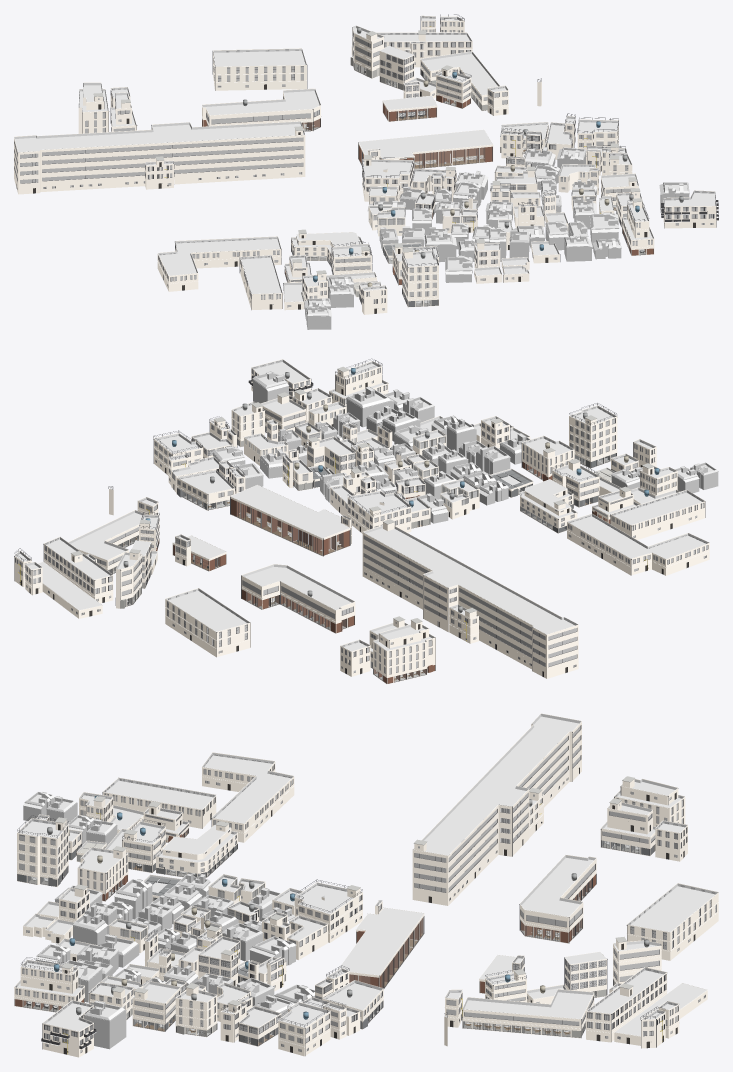
The picture shows the model from 3 angles, top to bottom: view 1: azimuth 30°, elevation 25°; view 2: azimuth 150°, elevation 25°; view 3: azimuth 270°, elevation 25°; orthographic projection. The views are drawn at different scales.
Visible parts, largest first — view 1: 서울특별시 성동구 성수동1가 656-32, 서울특별시 성동구 성수동1가 656-1961.001, 서울특별시 성동구 성수동1가 656-243, 서울특별시 성동구 성수동1가 72-130.001, 서울특별시 성동구 성수동1가 656-365, 서울특별시 성동구 성수동1가 656-243.001, 서울특별시 성동구 성수동1가 98-5, 서울특별시 성동구 성수동1가 72-114, 서울특별시 성동구 성수동1가 71-2, 서울특별시 성동구 성수동1가 72-158, 서울특별시 성동구 성수동1가 72-57, 서울특별시 성동구 성수동1가 656-1225 (+35 smaller); view 2: 서울특별시 성동구 성수동1가 656-32, 서울특별시 성동구 성수동1가 656-243, 서울특별시 성동구 성수동1가 72-130.001, 서울특별시 성동구 성수동1가 656-365, 서울특별시 성동구 성수동1가 656-1961.001, 서울특별시 성동구 성수동1가 656-251, 서울특별시 성동구 성수동1가 656-243.001, 서울특별시 성동구 성수동1가 98-5, 서울특별시 성동구 성수동1가 72-158, 서울특별시 성동구 성수동1가 72-114, 서울특별시 성동구 성수동1가 72-57, 서울특별시 성동구 성수동1가 656-1225 (+42 smaller); view 3: 서울특별시 성동구 성수동1가 656-32, 서울특별시 성동구 성수동1가 656-243, 서울특별시 성동구 성수동1가 656-365, 서울특별시 성동구 성수동1가 72-114, 서울특별시 성동구 성수동1가 72-130.001, 서울특별시 성동구 성수동1가 656-1961.001, 서울특별시 성동구 성수동1가 98-5, 서울특별시 성동구 성수동1가 72-158, 서울특별시 성동구 성수동1가 656-243.001, 서울특별시 성동구 성수동1가 656-1225, 서울특별시 성동구 성수동1가 77, 서울특별시 성동구 성수동1가 72-57 (+47 smaller).
Part boxes in pixels (x1,y1,x2,y2): 서울특별시 성동구 성수동1가 656-32: (14, 121, 305, 194); 서울특별시 성동구 성수동1가 656-1961.001: (212, 48, 307, 90); 서울특별시 성동구 성수동1가 656-243: (157, 236, 281, 291); 서울특별시 성동구 성수동1가 72-130.001: (358, 129, 493, 170); 서울특별시 성동구 성수동1가 656-365: (201, 88, 321, 131); 서울특별시 성동구 성수동1가 656-243.001: (239, 255, 282, 310); 서울특별시 성동구 성수동1가 98-5: (402, 248, 438, 307); 서울특별시 성동구 성수동1가 72-114: (420, 51, 499, 111); 서울특별시 성동구 성수동1가 71-2: (661, 190, 718, 228); 서울특별시 성동구 성수동1가 72-158: (376, 32, 472, 57); 서울특별시 성동구 성수동1가 72-57: (362, 157, 413, 201); 서울특별시 성동구 성수동1가 656-1225: (291, 232, 363, 267); 서울특별시 성동구 성수동1가 656-32: (362, 525, 578, 678); 서울특별시 성동구 성수동1가 656-243: (566, 513, 709, 575); 서울특별시 성동구 성수동1가 72-130.001: (230, 485, 350, 556); 서울특별시 성동구 성수동1가 656-365: (241, 564, 355, 633); 서울특별시 성동구 성수동1가 656-1961.001: (165, 588, 250, 657); 서울특별시 성동구 성수동1가 656-251: (373, 624, 435, 684); 서울특별시 성동구 성수동1가 656-243.001: (610, 489, 705, 539); 서울특별시 성동구 성수동1가 98-5: (568, 403, 617, 468); 서울특별시 성동구 성수동1가 72-158: (43, 536, 113, 603); 서울특별시 성동구 성수동1가 72-114: (68, 510, 147, 574); 서울특별시 성동구 성수동1가 72-57: (347, 488, 411, 533); 서울특별시 성동구 성수동1가 656-1225: (520, 479, 577, 533); 서울특별시 성동구 성수동1가 656-32: (412, 713, 581, 905); 서울특별시 성동구 성수동1가 656-243: (201, 752, 294, 842); 서울특별시 성동구 성수동1가 656-365: (519, 854, 596, 943); 서울특별시 성동구 성수동1가 72-114: (462, 989, 594, 1038); 서울특별시 성동구 성수동1가 72-130.001: (337, 907, 424, 989); 서울특별시 성동구 성수동1가 656-1961.001: (626, 883, 718, 960); 서울특별시 성동구 성수동1가 98-5: (17, 815, 68, 886); 서울특별시 성동구 성수동1가 72-158: (586, 967, 667, 1042); 서울특별시 성동구 성수동1가 656-243.001: (102, 777, 216, 828); 서울특별시 성동구 성수동1가 656-1225: (156, 825, 237, 878); 서울특별시 성동구 성수동1가 77: (14, 957, 84, 1012); 서울특별시 성동구 성수동1가 72-57: (294, 879, 362, 942).
Bounding box in the file's own units: 219 × 19.32 × 221.
